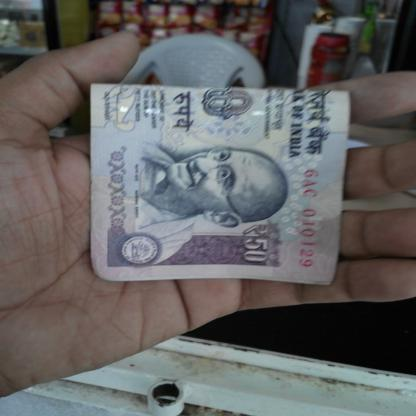Old50Front: (89, 82, 351, 287)
